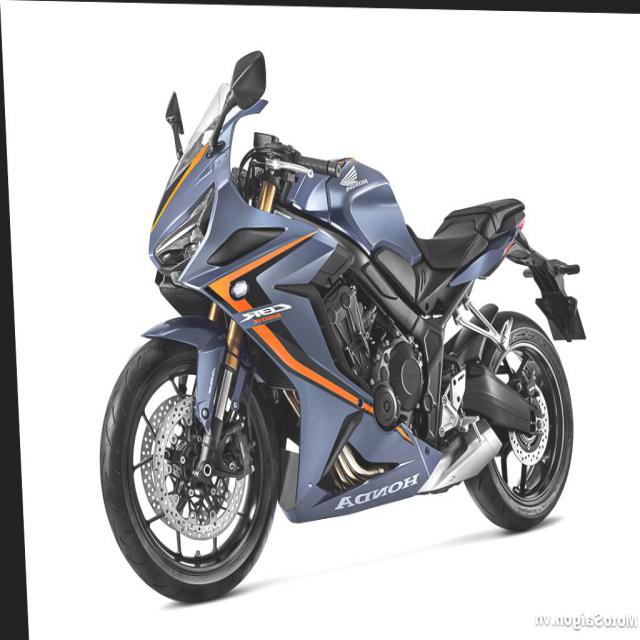CBR650R: (80, 45, 592, 608)
